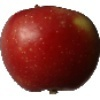apple: (1, 5, 100, 92)
